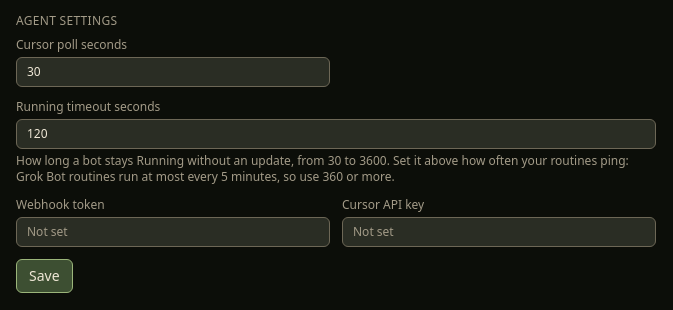
Scenario: ConfigSection running timeout › does not send a save for the timeout , and says why
Clear the field labelled "Running timeout seconds" at [336, 134], box [16, 119, 656, 149]
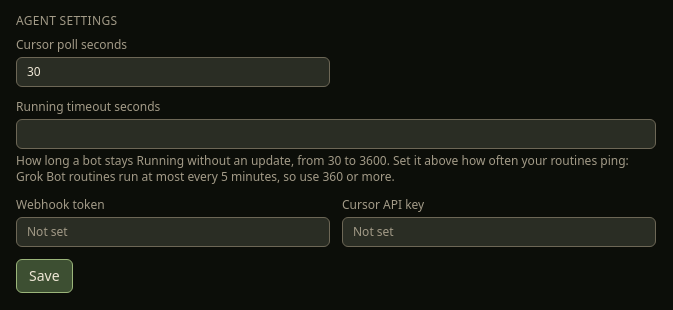
Click the button "Save".
click(44, 276)  # box [16, 259, 73, 293]
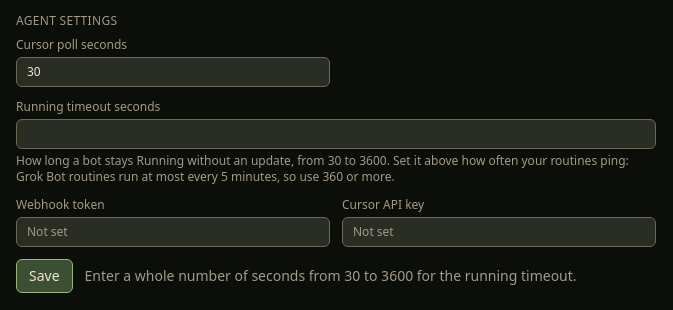
Check: the message shows "from 30 to 3600", box [85, 266, 577, 285]
